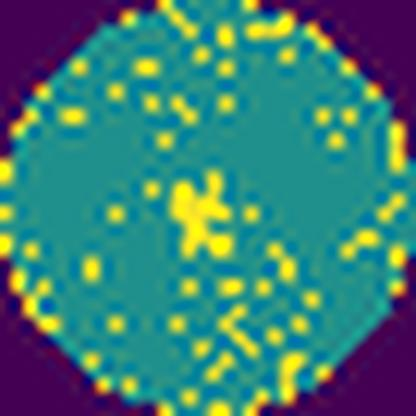Center: (166, 162, 239, 268)
